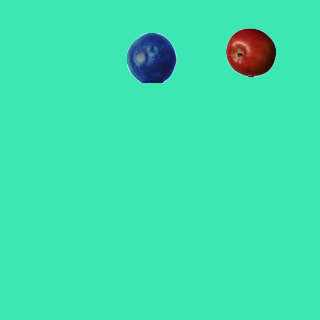Apple Braeburn: (225, 27, 275, 77)
Huckleberry: (126, 32, 176, 82)
